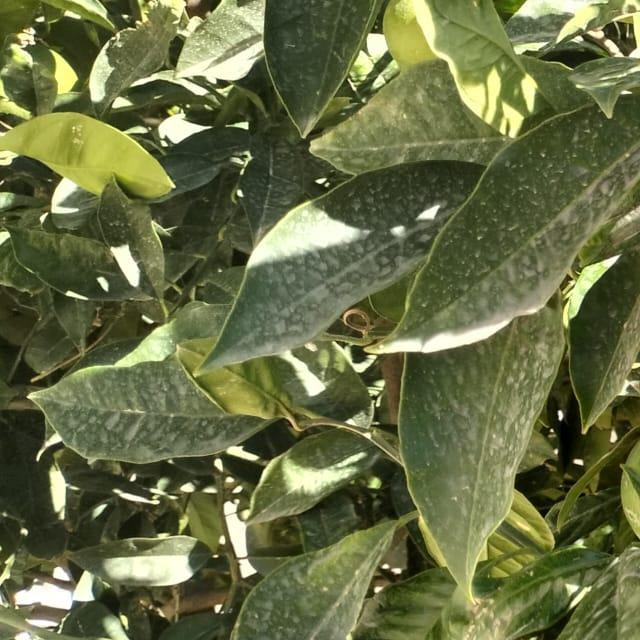orange: (380, 0, 446, 75), (616, 393, 640, 559)
